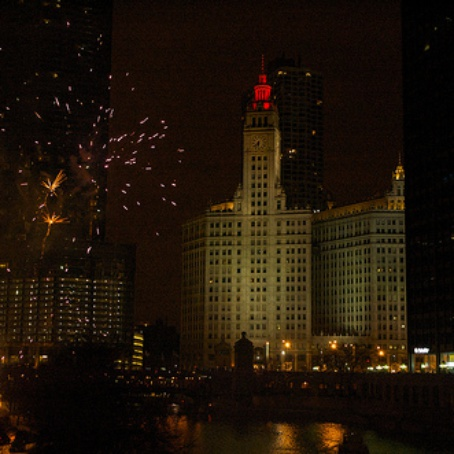building: (178, 57, 311, 367), (317, 172, 413, 368), (1, 251, 145, 365)
fireworks: (1, 36, 201, 251)
